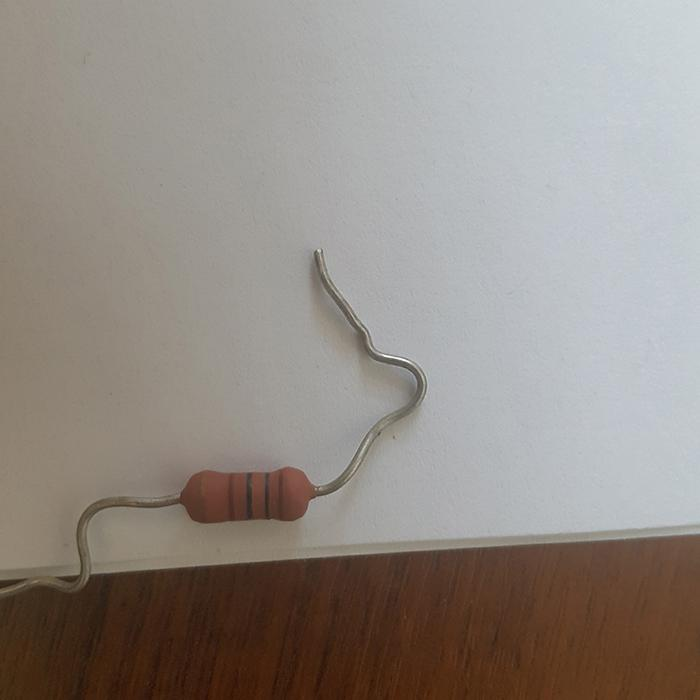resistor: (181, 468, 312, 523)
